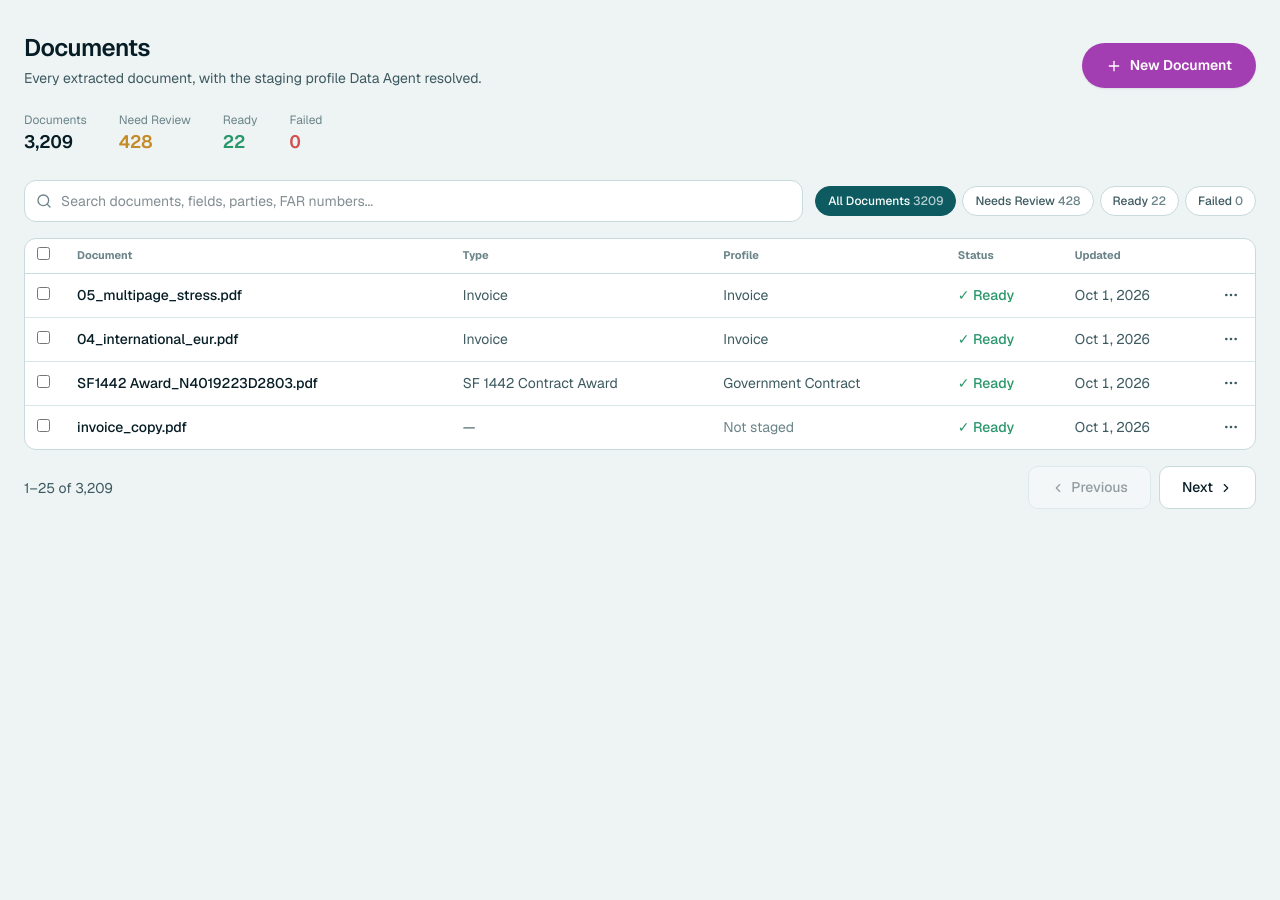
Documents table › asks before deleting and refreshes the list and counts afterwards
Check: the text "05_multipage_stress.pdf" is shown, box x1=65 y1=273 x2=451 y2=317
Click the button named "Actions for 05_multipage_stress.pdf". click: point(1231, 295)
box: x1=1219 y1=283 x2=1243 y2=307
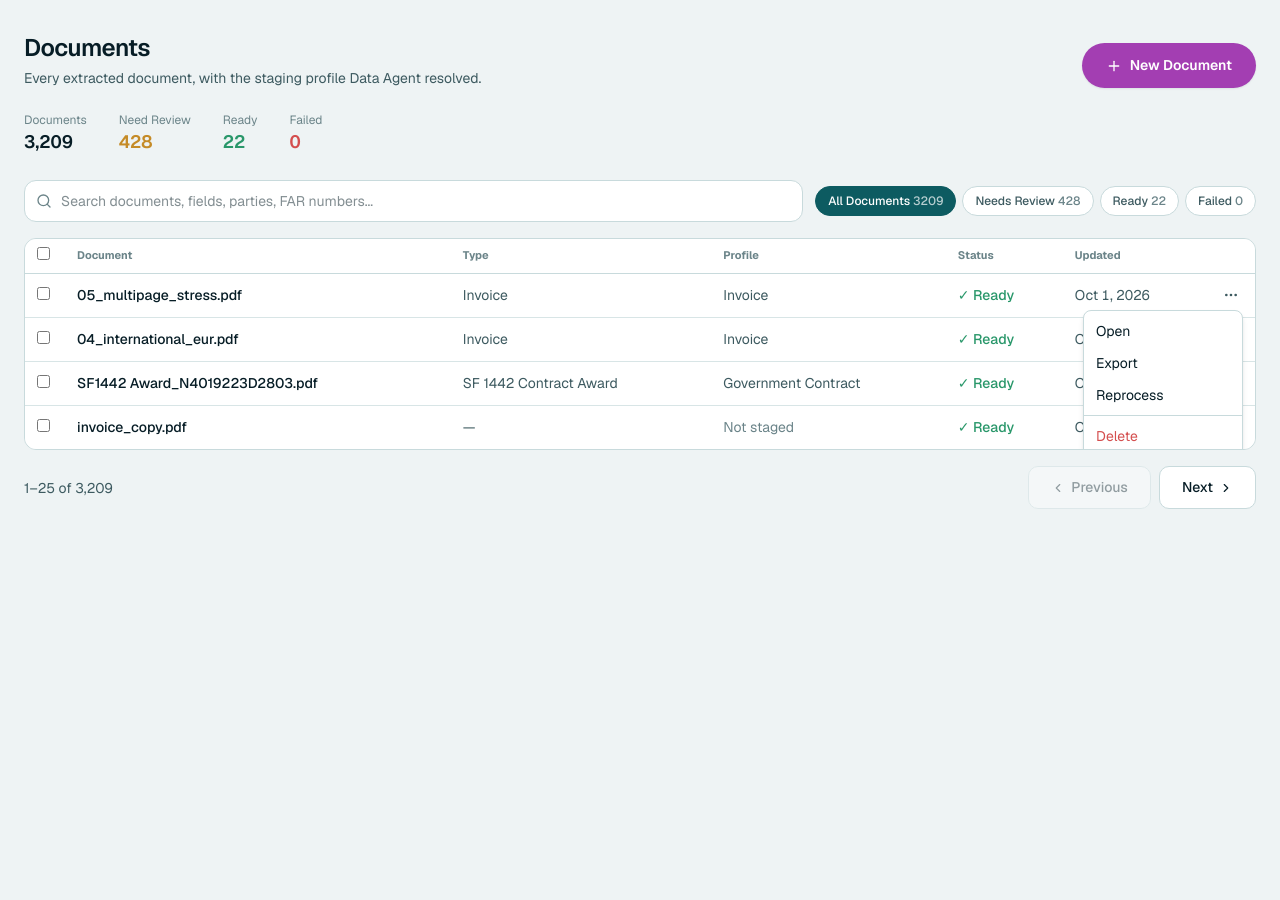
Check: the menu items read "Open", "Export", "Reprocess", "Delete", in this order
Click the menu item "Delete". click: point(1163, 436)
box: x1=1084 y1=420 x2=1242 y2=452
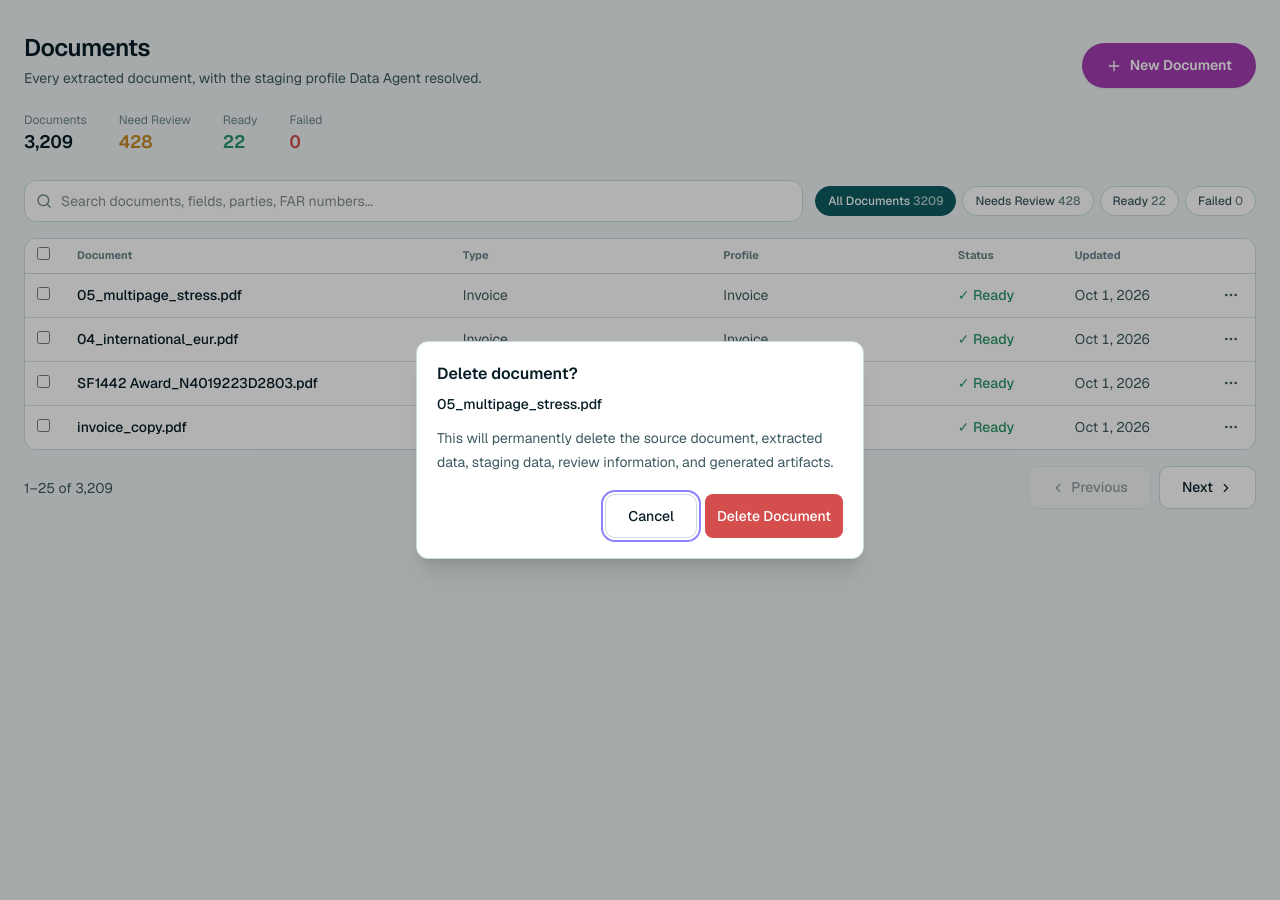
Check: the list item "05_multipage_stress.pdf" is shown, box x1=437 y1=395 x2=602 y2=413
Check: the text "permanently delete the source document, extracted data, staging data" is shown, box x1=437 y1=426 x2=843 y2=474
Click the button "Cancel". click: point(651, 516)
box: x1=605 y1=494 x2=697 y2=538
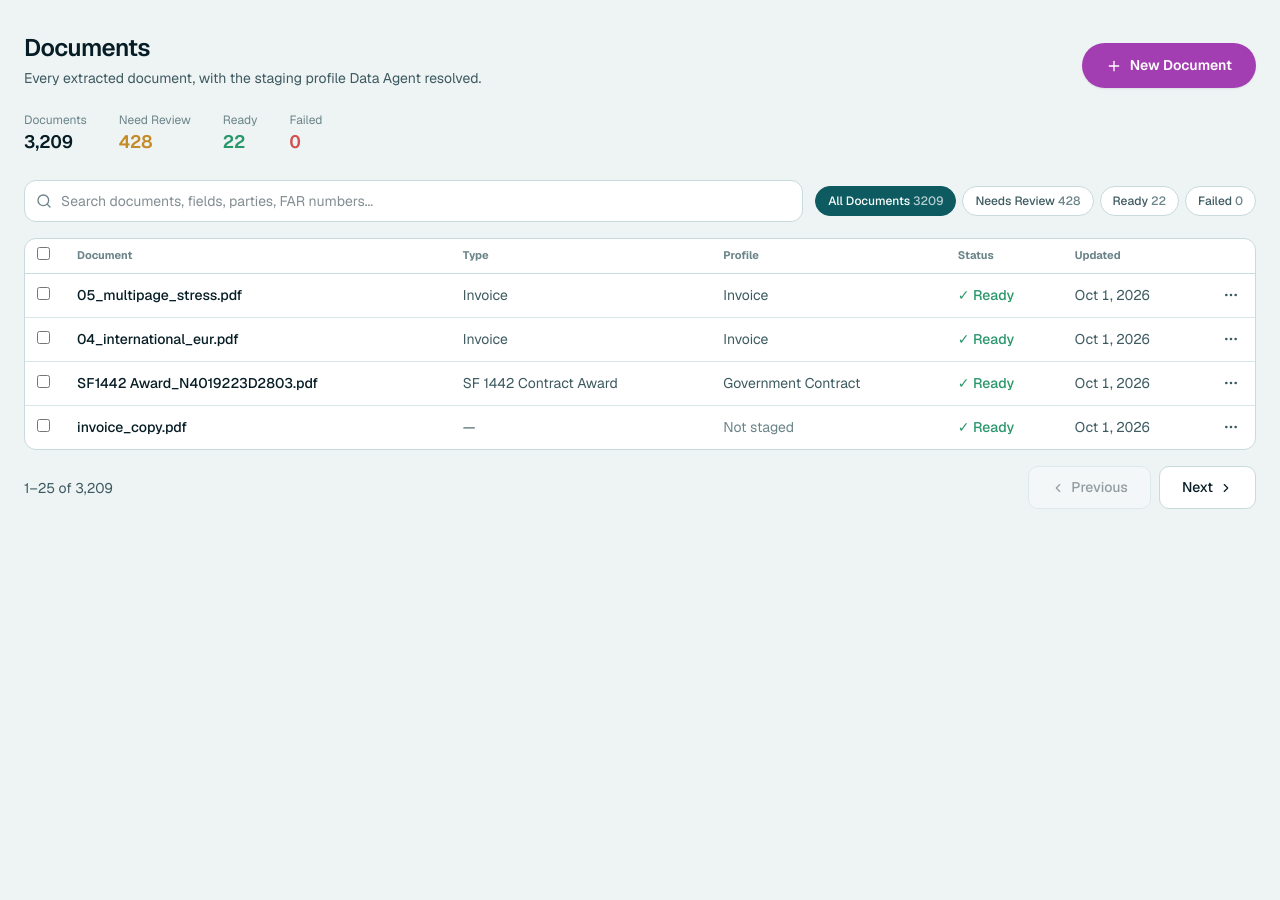
Check: the dialog is gone
Click the button named "Actions for 05_multipage_stress.pdf". click: point(1231, 295)
box: x1=1219 y1=283 x2=1243 y2=307
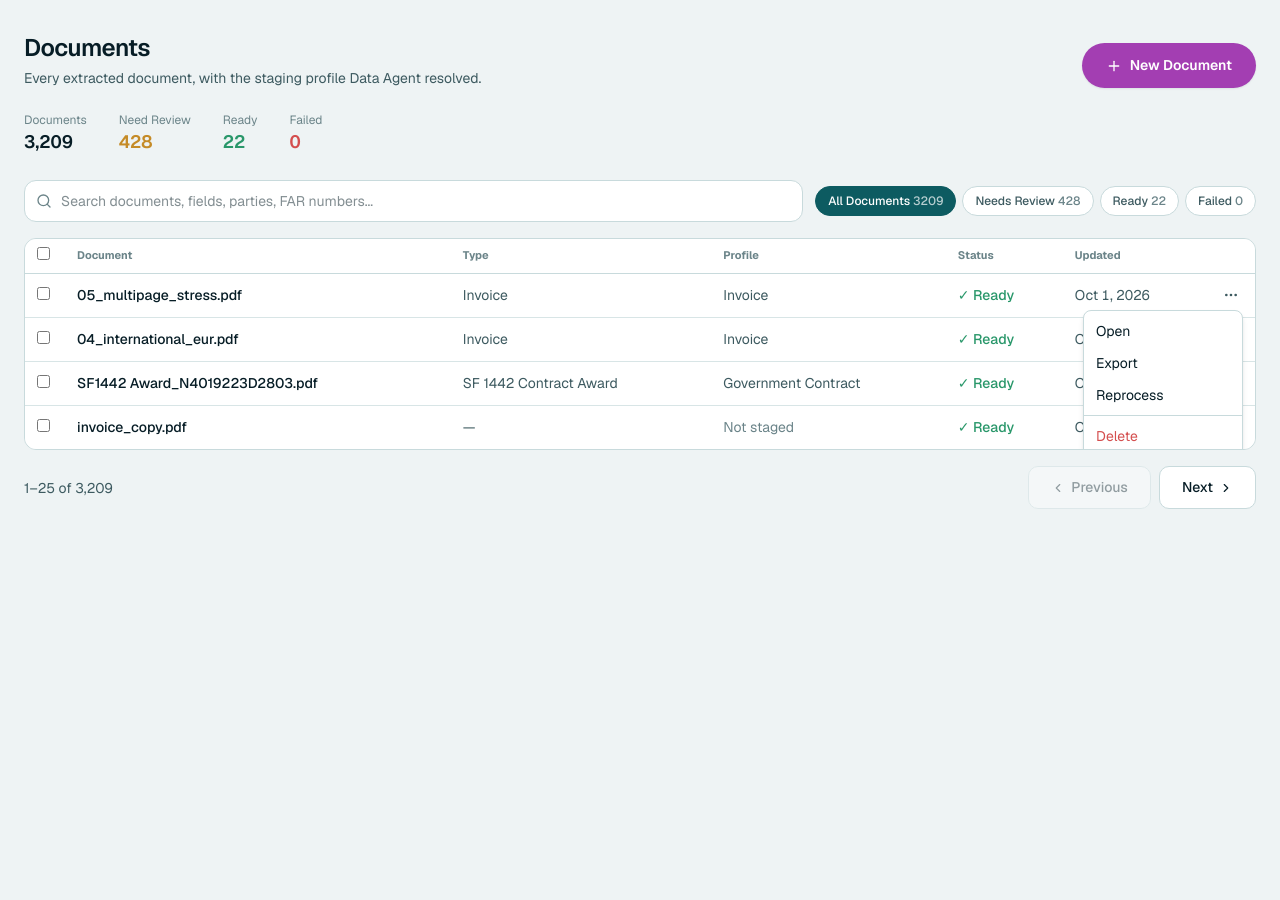
Click the menu item "Delete". click: point(1163, 436)
box: x1=1084 y1=420 x2=1242 y2=452
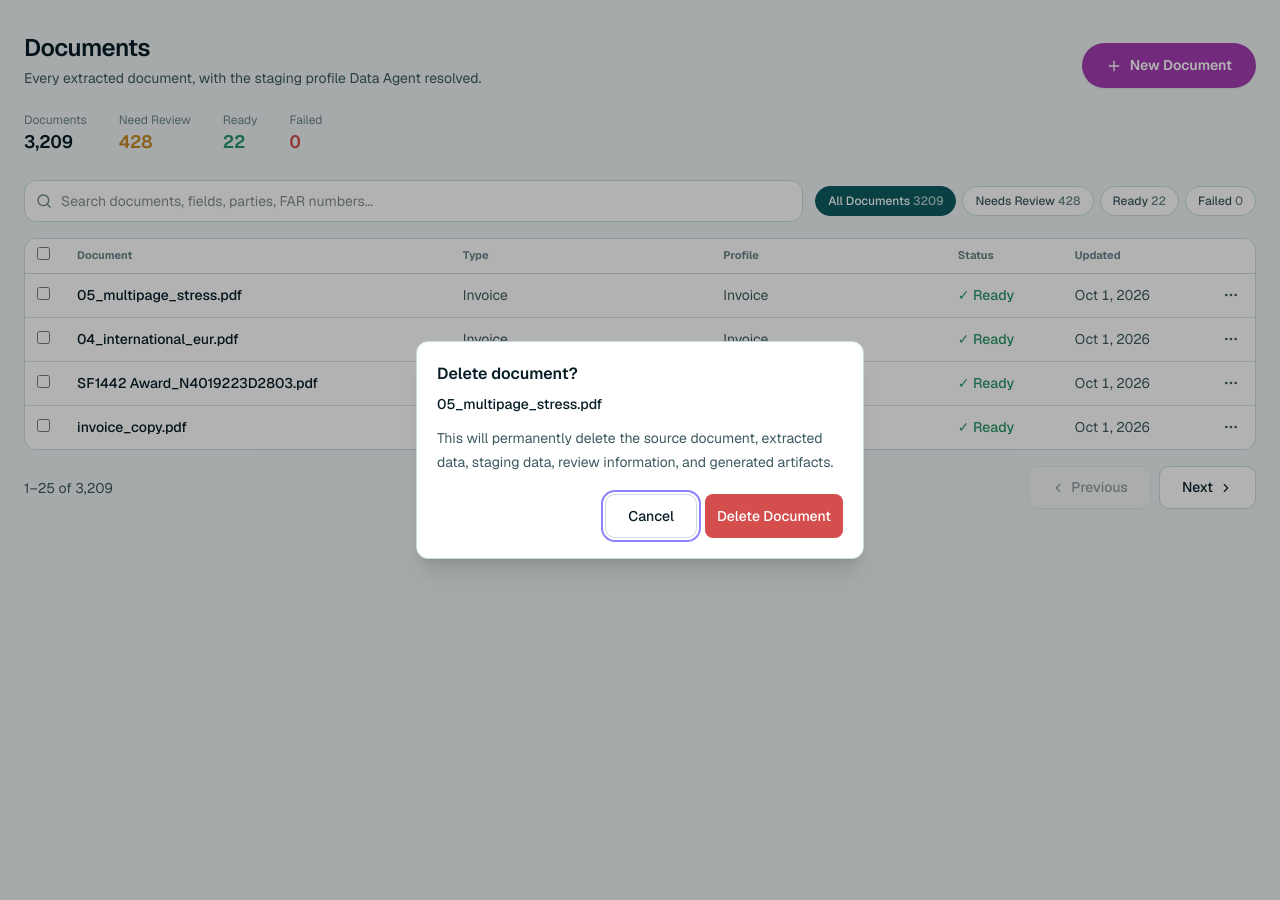
Click the button "Delete Document". click: point(774, 516)
box: x1=705 y1=494 x2=843 y2=538
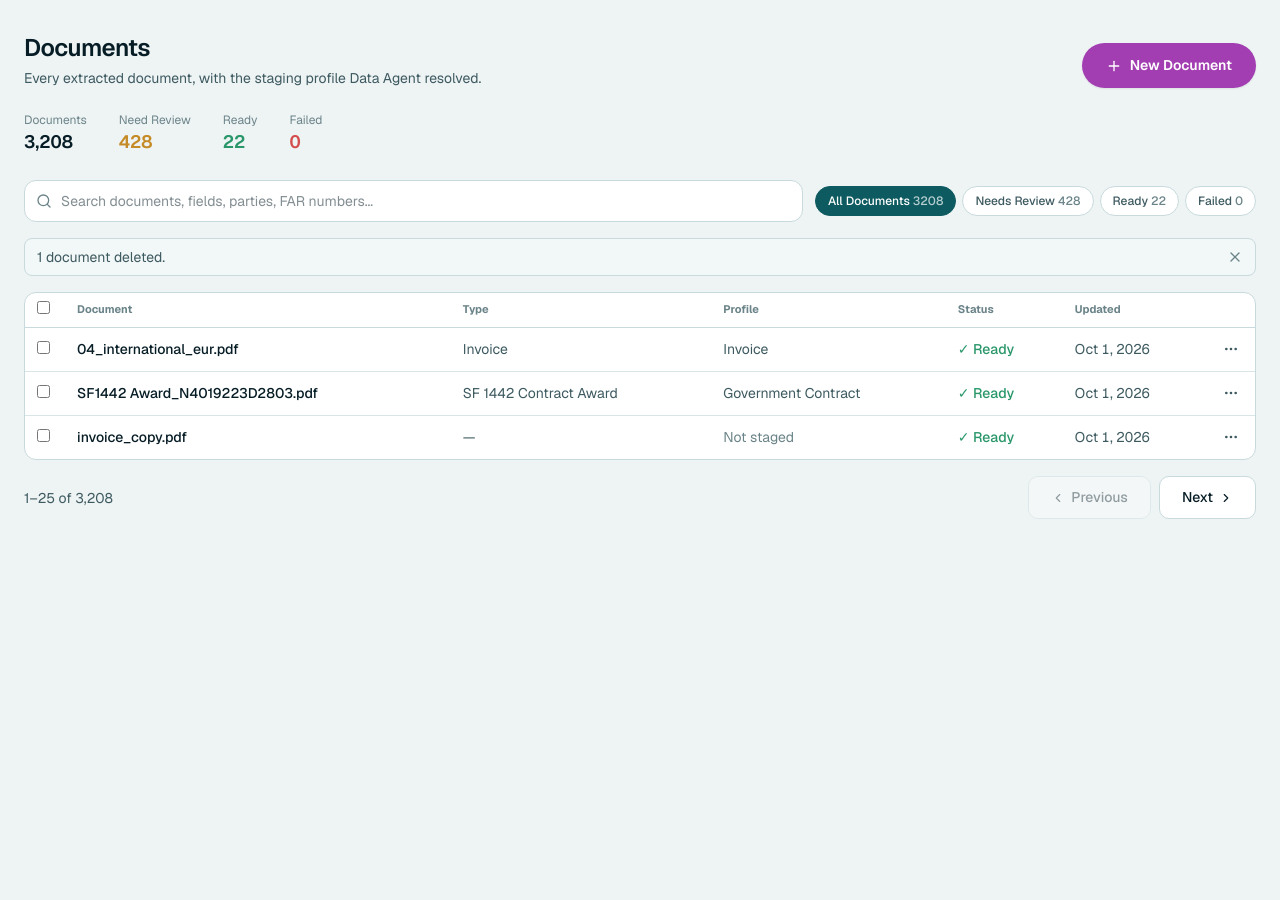
Check: the text "05_multipage_stress.pdf" is gone
Check: the text "3,208" is shown, box x1=24 y1=130 x2=73 y2=153
Check: the message shows "1 document deleted", box x1=37 y1=248 x2=165 y2=266
